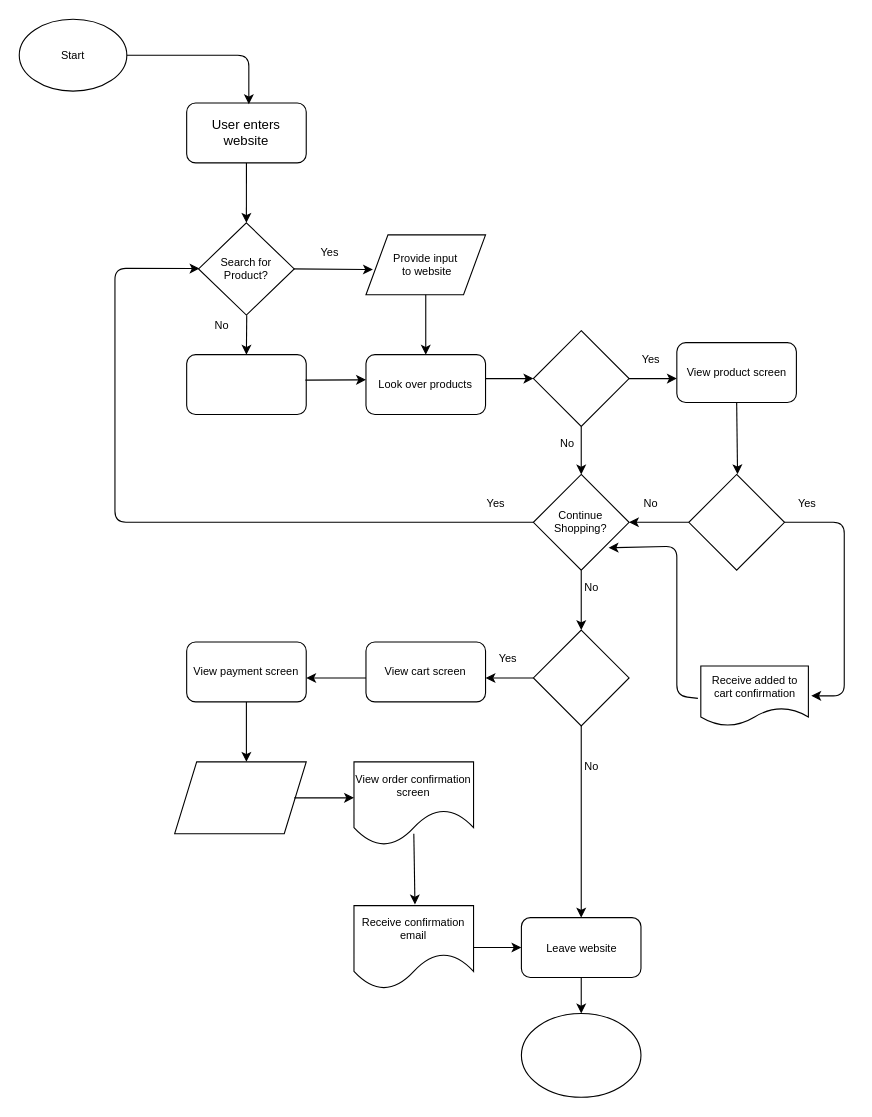
The diagram is 872 pixels wide and 1117 high, and some of its shapes have lost their labels. The centre of each missing label's shape, as x and y in pixels:
"Add to cart?" belongs at pixel 736 521.
"Checkout?" belongs at pixel 580 677.
"End" belongs at pixel 580 1054.
"Explore products on homepage" belongs at pixel 246 384.
"Provide input for payment" belongs at pixel 240 797.
"View specific product?" belongs at pixel 580 378.
